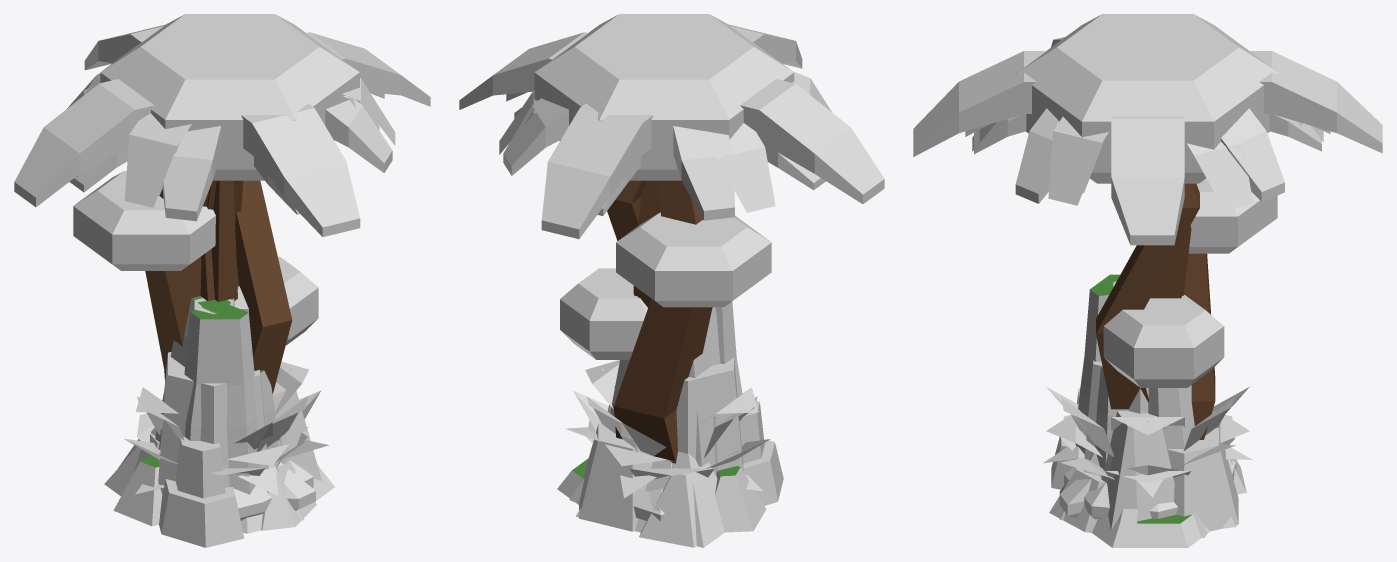
Rendered from africa.glb.
3 renders of one model, left to right at view 1: azimuth 30°, elevation 25°; view 2: azimuth 150°, elevation 25°; view 3: azimuth 270°, elevation 25°, orthographic.
Parts seen in each view (by area): view 1: tree_plateau, tree_palmShort, stone_tallB, tree_palmBend, rock_tallA, tree_palmDetailedTall, tree_palm, plant_bush, plant_bushLarge, rock_smallB, rock_largeC, plant_bushSmall (+4 smaller); view 2: tree_plateau, tree_palmShort, stone_tallB, tree_palmDetailedTall, tree_palmBend, rock_tallA, plant_bush, plant_bushLarge, rock_smallB, plant_bushSmall, rock_tallC, tree_palmTall (+2 smaller); view 3: tree_plateau, tree_palmShort, stone_tallB, tree_palmBend, tree_palmDetailedTall, rock_tallA, plant_bushLarge, plant_bush, rock_tallC, rock_largeC, rock_largeA, plant_bushDetailed (+2 smaller).
Boxes of the visible parts, x1,y1,x2,y2 form: tree_plateau: (73, 14, 359, 345); tree_palmShort: (14, 25, 430, 381); stone_tallB: (118, 298, 321, 547); tree_palmBend: (77, 78, 395, 394); rock_tallA: (113, 300, 334, 526); tree_palmDetailedTall: (67, 73, 392, 221); tree_palm: (158, 95, 379, 301); plant_bush: (135, 361, 308, 465); plant_bushLarge: (137, 396, 307, 475); rock_smallB: (104, 428, 304, 533); rock_largeC: (228, 460, 313, 520); plant_bushSmall: (124, 390, 321, 466); tree_plateau: (534, 14, 794, 359); tree_palmShort: (459, 25, 884, 463); stone_tallB: (579, 307, 783, 547); tree_palmDetailedTall: (503, 98, 825, 220); tree_palmBend: (499, 71, 831, 240); rock_tallA: (557, 301, 766, 532); plant_bush: (585, 360, 758, 466); plant_bushLarge: (586, 396, 757, 479); rock_smallB: (569, 451, 724, 547); plant_bushSmall: (573, 390, 770, 468); rock_tallC: (610, 335, 711, 466); tree_palmTall: (506, 92, 660, 307); tree_plateau: (1015, 14, 1280, 387); tree_palmShort: (913, 51, 1382, 439); stone_tallB: (1049, 281, 1246, 532); tree_palmBend: (972, 37, 1323, 409); tree_palmDetailedTall: (974, 108, 1321, 203); rock_tallA: (1073, 274, 1209, 547); plant_bushLarge: (1061, 397, 1234, 483); plant_bush: (1046, 415, 1249, 457); rock_tallC: (1148, 385, 1194, 448); rock_largeC: (1064, 459, 1232, 519); rock_largeA: (1059, 460, 1236, 517); plant_bushDetailed: (1043, 409, 1252, 497).
Size of the model in its own units: 1.86 by 2 by 1.86.
